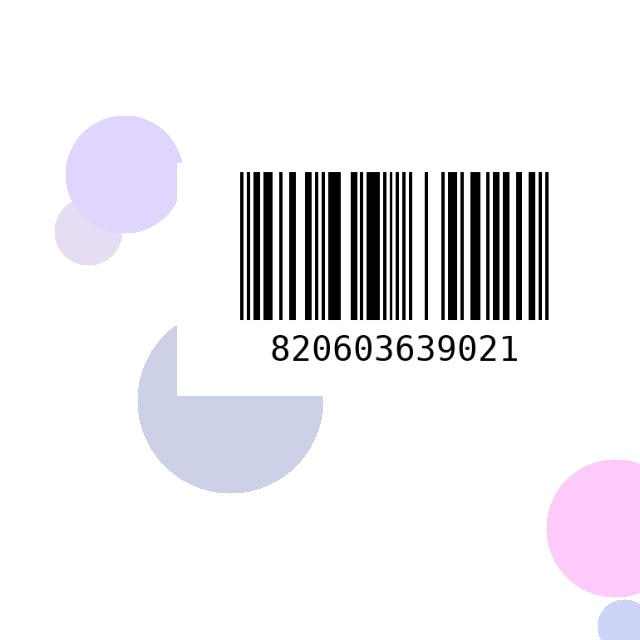barcode: (177, 163, 612, 396)
